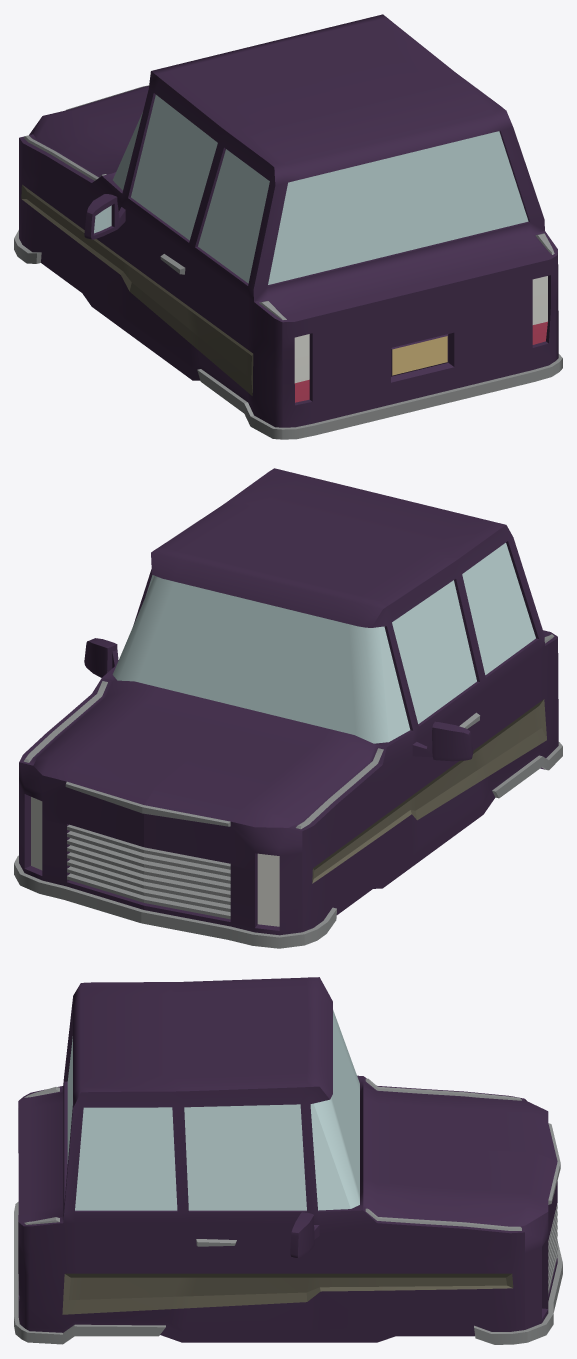
File: car.fbx
3 views of the same model, one above another, from view 1: azimuth 30°, elevation 25°; view 2: azimuth 150°, elevation 25°; view 3: azimuth 270°, elevation 25° (orthographic). The views are drawn at different scales.
Parts seen in each view (by area): view 1: car_body; view 2: car_body; view 3: car_body.
Boxes of the visible parts, x1=… form: car_body: x1=14, y1=14, x2=562, y2=439; car_body: x1=14, y1=468, x2=562, y2=948; car_body: x1=14, y1=977, x2=562, y2=1344.
Bounding box in the file's own units: 248 × 154 × 315.
